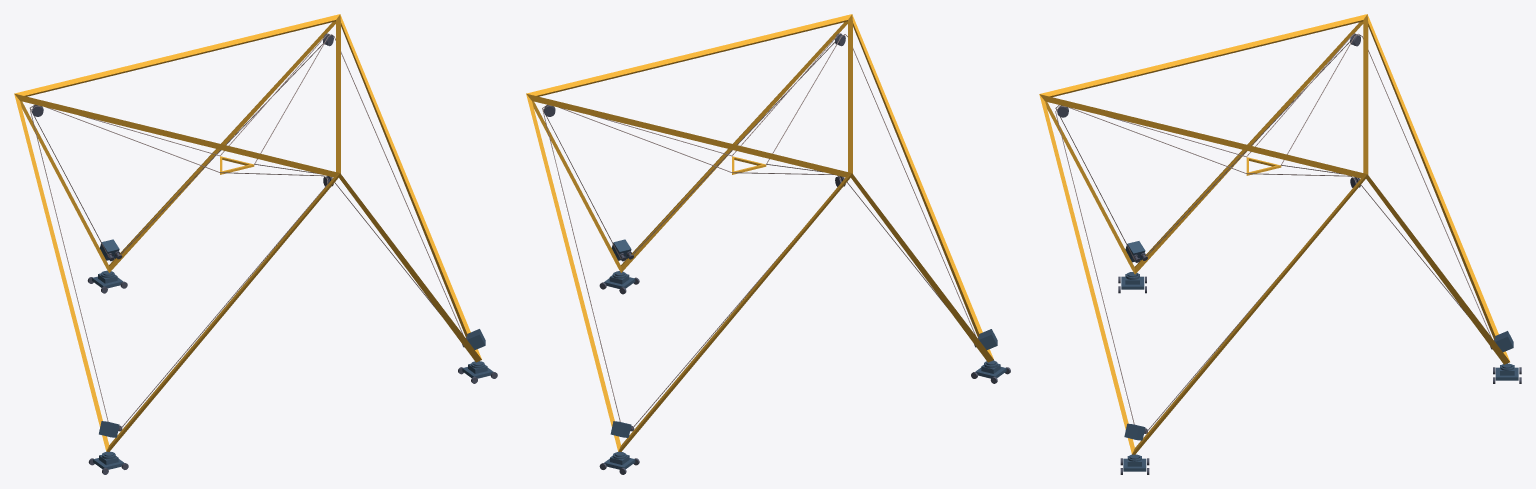
The model's file is Spider_Crane.glb.
The picture shows the model from 3 angles, left to right: view 1: azimuth 30°, elevation 25°; view 2: azimuth 150°, elevation 25°; view 3: azimuth 270°, elevation 25°; orthographic projection.
Parts seen in each view (by area): view 1: SpiderCrane; view 2: SpiderCrane; view 3: SpiderCrane.
Boxes of the visible parts, left/top/right/bottom form: SpiderCrane: left=14, top=14, right=497, bottom=474; SpiderCrane: left=526, top=14, right=1010, bottom=474; SpiderCrane: left=1039, top=14, right=1521, bottom=474.
Bounding box in the file's own units: 5.26 × 3.59 × 5.51.
